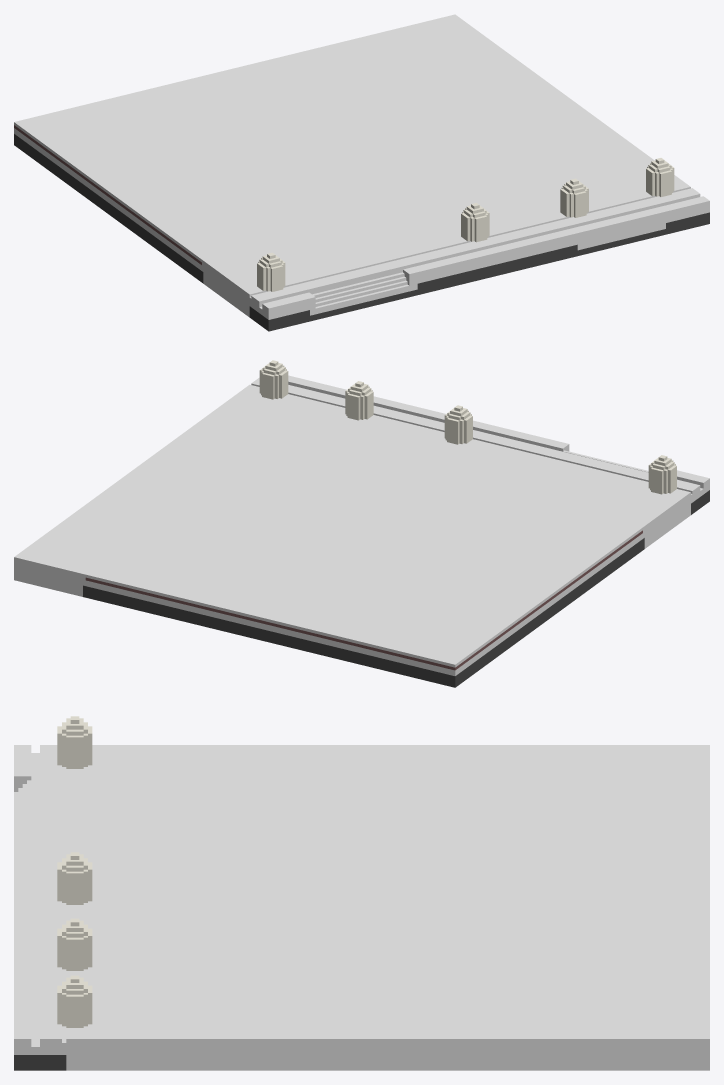
The model's file is pathway castle2.obj.
The picture shows the model from 3 angles, top to bottom: view 1: azimuth 30°, elevation 25°; view 2: azimuth 150°, elevation 25°; view 3: azimuth 270°, elevation 25°; orthographic projection. The views are drawn at different scales.
Bounding box in the file's own units: 16 × 1.9 × 16.
1 material, 1 textured.
